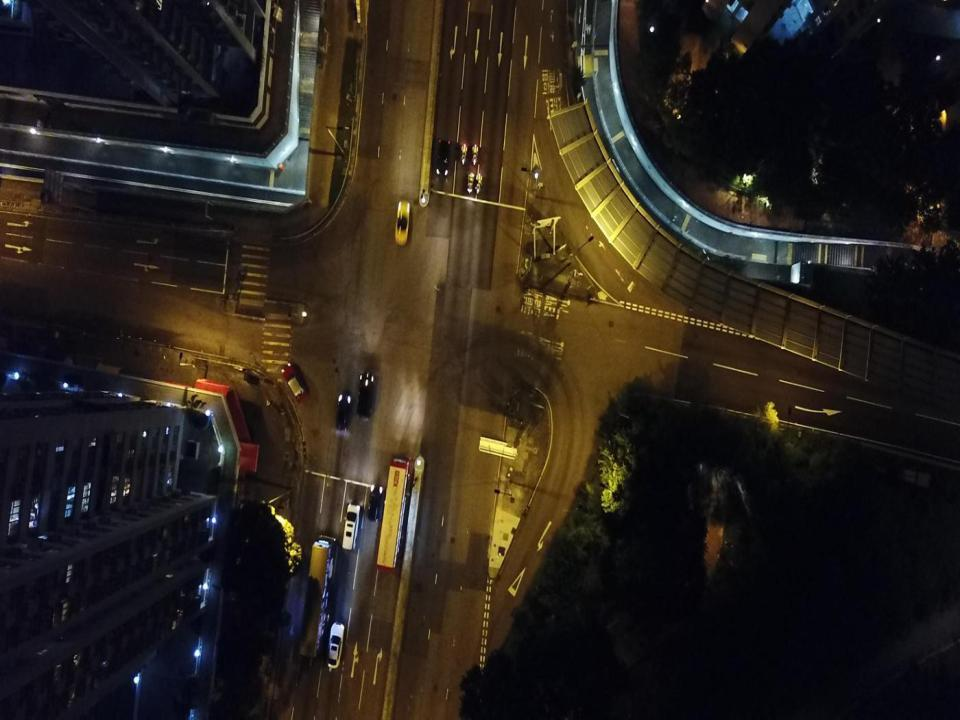bus: (298, 534, 340, 657), (376, 453, 412, 573)
car: (281, 362, 311, 405), (326, 621, 346, 670), (356, 371, 374, 419), (394, 200, 411, 246), (366, 483, 383, 522), (335, 392, 352, 431), (436, 138, 452, 176)
van: (342, 503, 362, 551)
